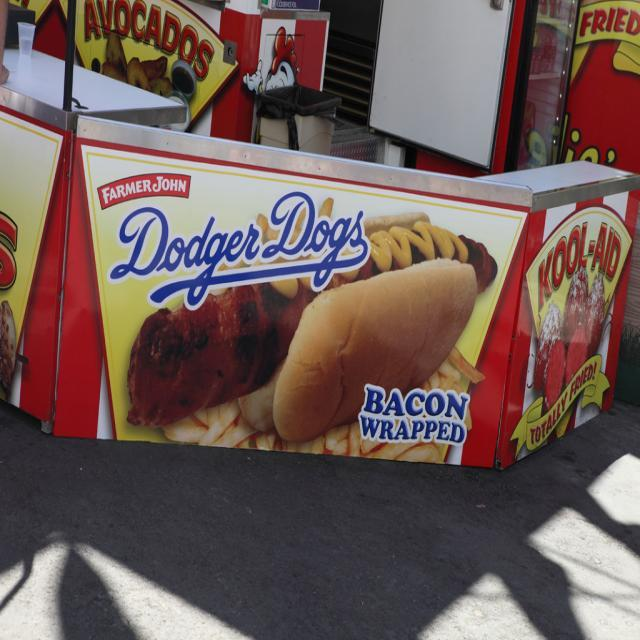Hot dog: (258, 203, 502, 431)
